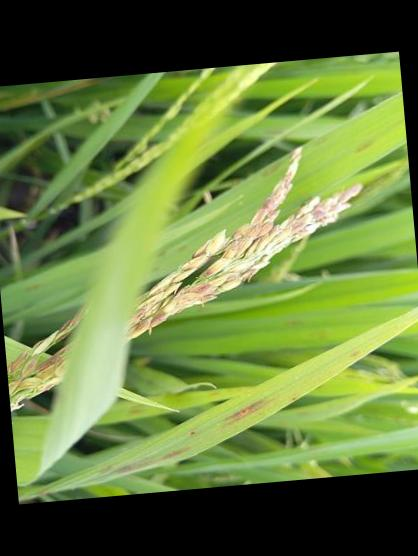Leaf Streak: (104, 441, 213, 478), (219, 389, 297, 428)
Panicle Blight: (124, 149, 358, 340), (7, 310, 83, 418)
